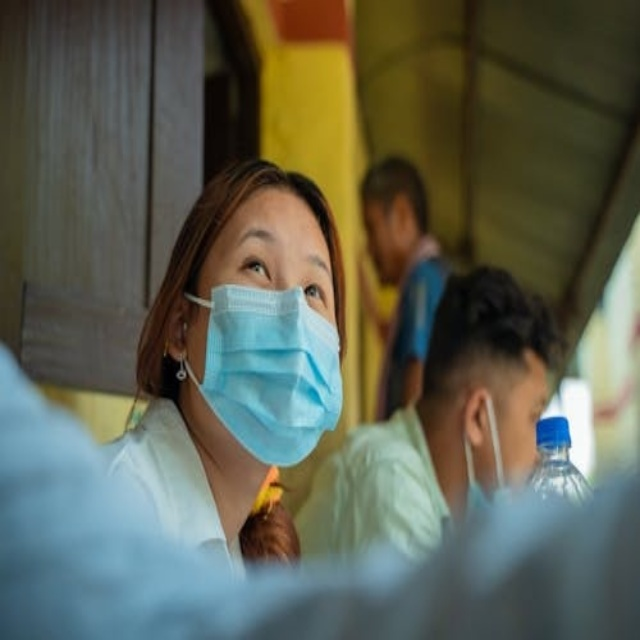Mascara: (183, 282, 343, 464), (464, 392, 506, 505)
Sin_gafas: (225, 221, 329, 309)
